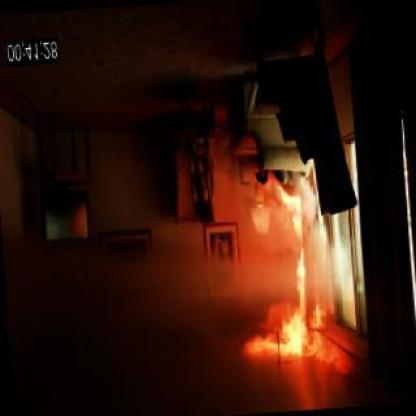Fire: (243, 300, 341, 382), (268, 170, 324, 296)
